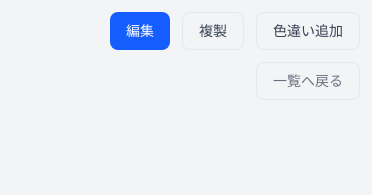
Test case: ItemDuplicateActions › 別操作を始めると前のエラーをクリアする
This screenshot has width=372, height=195.
Click the button "複製".
click(213, 31)  # box [182, 12, 244, 50]
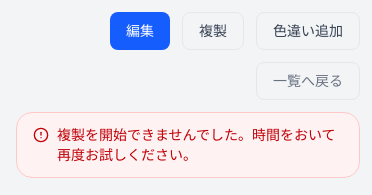
Result: the message "複製を開始できませんでした。時間をおいて再度お試しください。" is shown at [16, 112, 360, 178]
Click the button "色違い追加".
click(308, 31)  # box [256, 12, 360, 50]
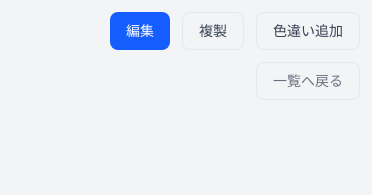
Result: the message "複製を開始できませんでした。時間をおいて再度お試しください。" is gone
